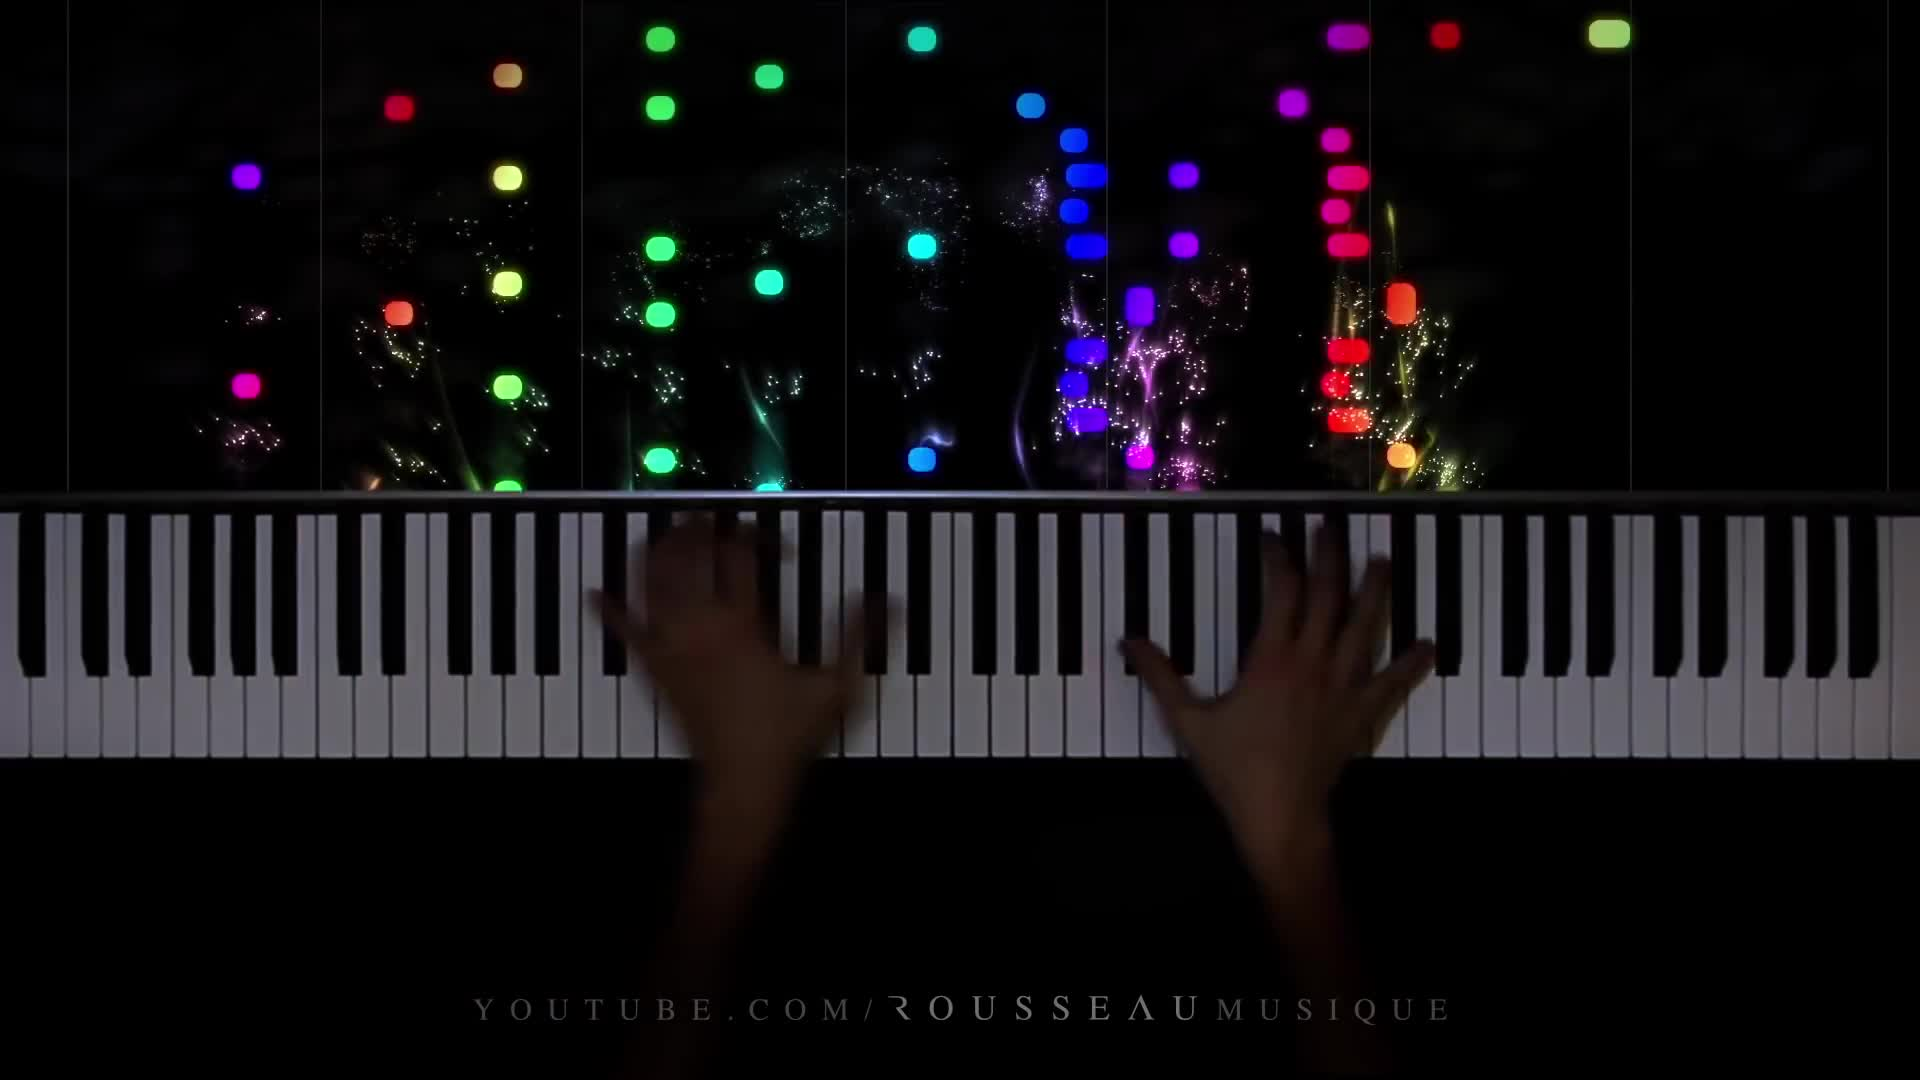left: (578, 514, 878, 799)
right: (1114, 520, 1433, 800)
